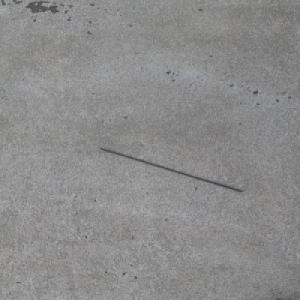LuggagePart: (98, 147, 243, 192)
